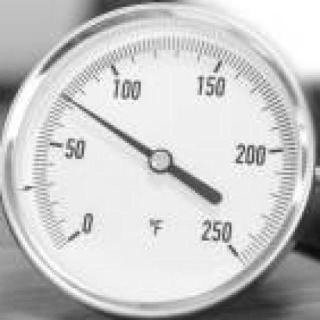gauge: (0, 0, 320, 320), (194, 219, 250, 271), (52, 215, 98, 252), (147, 146, 175, 174), (58, 90, 74, 106)
